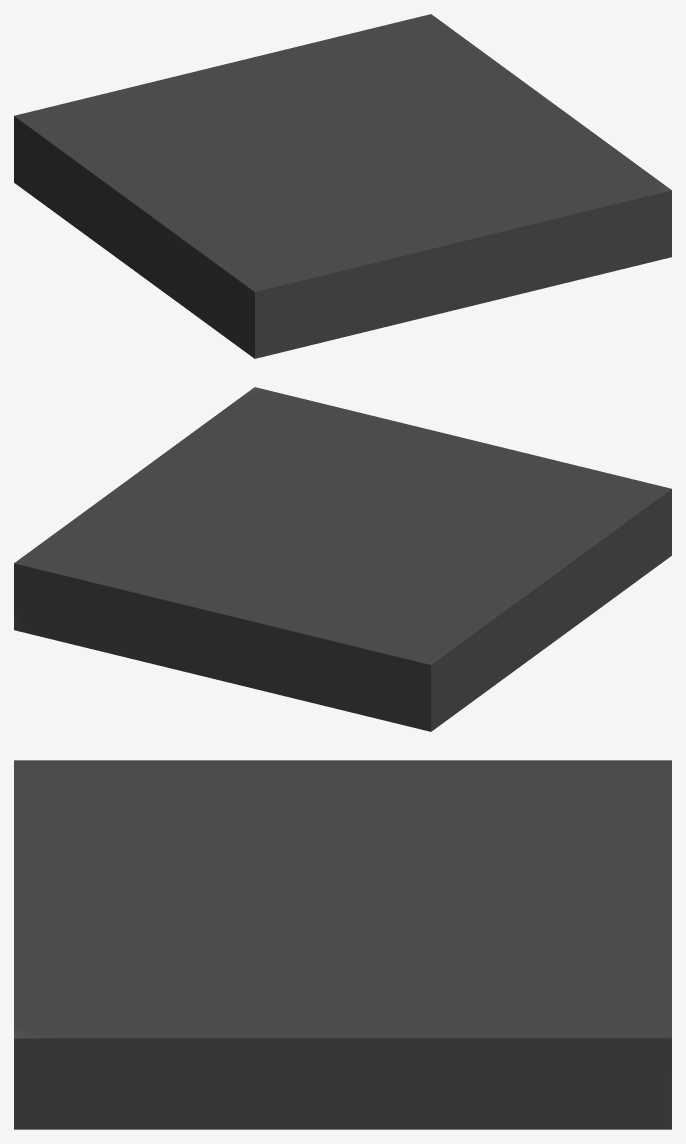
Rendered from Spy_Ceilings_Textured.fbx.
3 renders of one model, top to bottom at view 1: azimuth 30°, elevation 25°; view 2: azimuth 150°, elevation 25°; view 3: azimuth 270°, elevation 25°, orthographic. The views are drawn at different scales.
Parts seen in each view (by area): view 1: Wall_Left; view 2: Wall_Left; view 3: Wall_Left.
Boxes of the visible parts, <box> form: Wall_Left: <box>14,14,671,358</box>; Wall_Left: <box>14,387,671,731</box>; Wall_Left: <box>14,760,671,1129</box>.
Bounding box in the file's own units: 3 × 0.4593 × 3.
